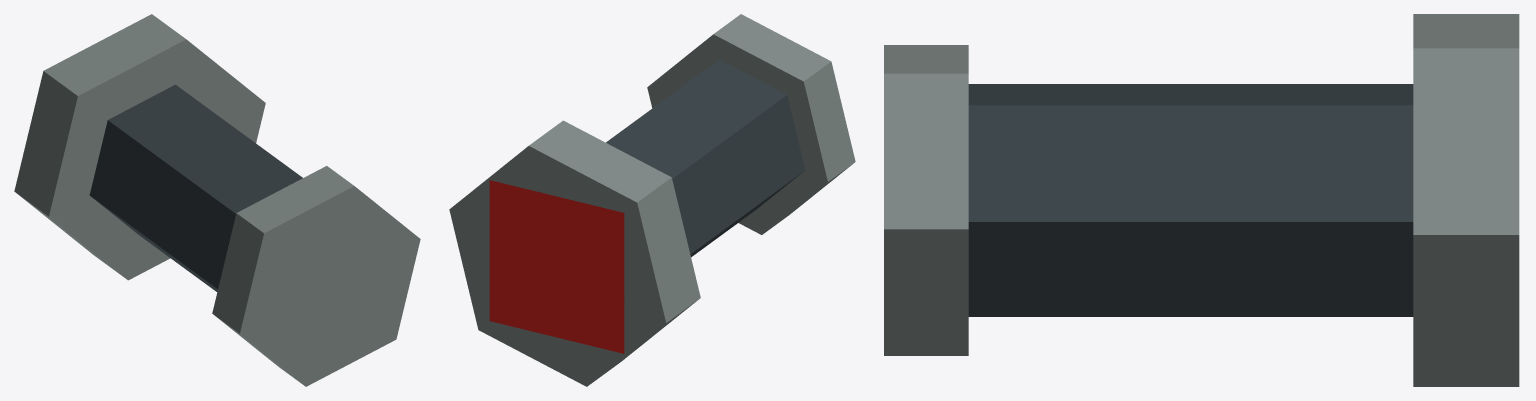
The picture shows the model from 3 angles, left to right: view 1: azimuth 30°, elevation 25°; view 2: azimuth 150°, elevation 25°; view 3: azimuth 270°, elevation 25°; orthographic projection. The views are drawn at different scales.
Parts seen in each view (by area): view 1: mount; view 2: mount; view 3: mount.
Boxes of the visible parts, box(x1,y1,x2,y2) form: mount: box(14, 14, 420, 386); mount: box(449, 14, 855, 386); mount: box(884, 14, 1519, 386).
Size of the model in its own units: 4.35 by 4.35 by 7.23.
